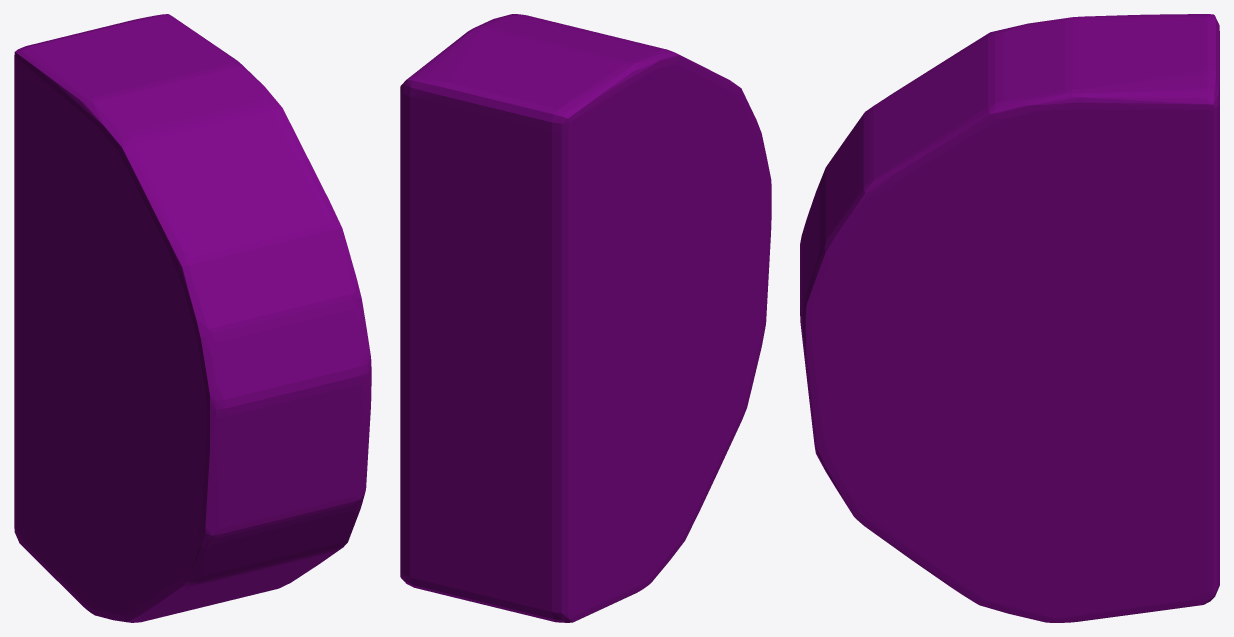
File: right_f_middle_part_11.obj
3 renders of one model, left to right at view 1: azimuth 30°, elevation 25°; view 2: azimuth 150°, elevation 25°; view 3: azimuth 270°, elevation 25°, orthographic. The views are drawn at different scales.
Bounding box in the file's own units: 4.76 × 14.35 × 10.22.
